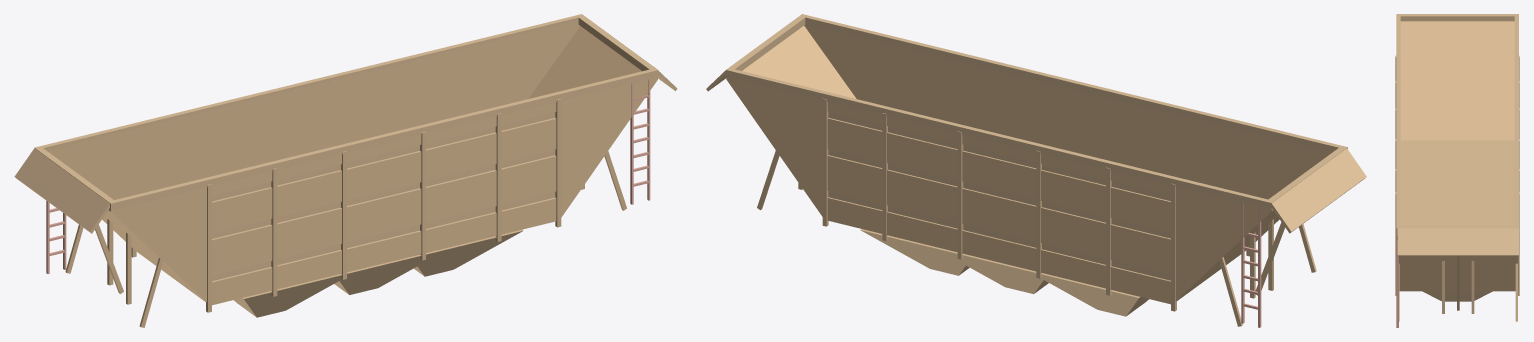
File: props44.fbx
The picture shows the model from 3 angles, left to right: view 1: azimuth 30°, elevation 25°; view 2: azimuth 150°, elevation 25°; view 3: azimuth 270°, elevation 25°; orthographic projection. The views are drawn at different scales.
Parts seen in each view (by area): view 1: Cube_6; view 2: Cube_6; view 3: Cube_6.
Part boxes in pixels (x1,y1,x2,y2): Cube_6: (14,14,677,327); Cube_6: (706,14,1366,327); Cube_6: (1395,14,1519,327).
Bounding box in the file's own units: 1443 × 417 × 330.
